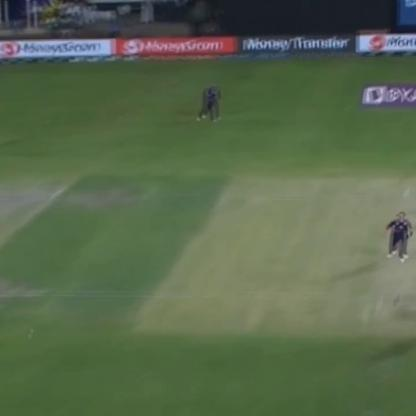ball: (26, 324, 38, 333), (24, 332, 33, 341)
pitch: (375, 178, 415, 344)
